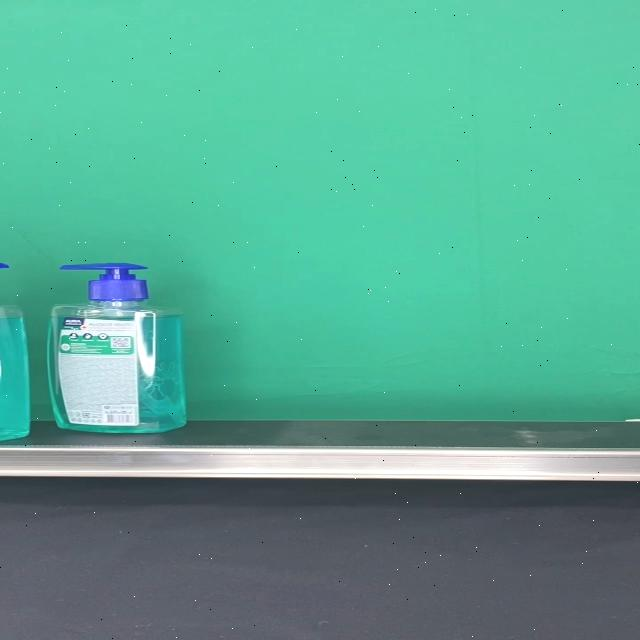Bottle: (46, 262, 186, 433)
Cap: (61, 262, 152, 302)
